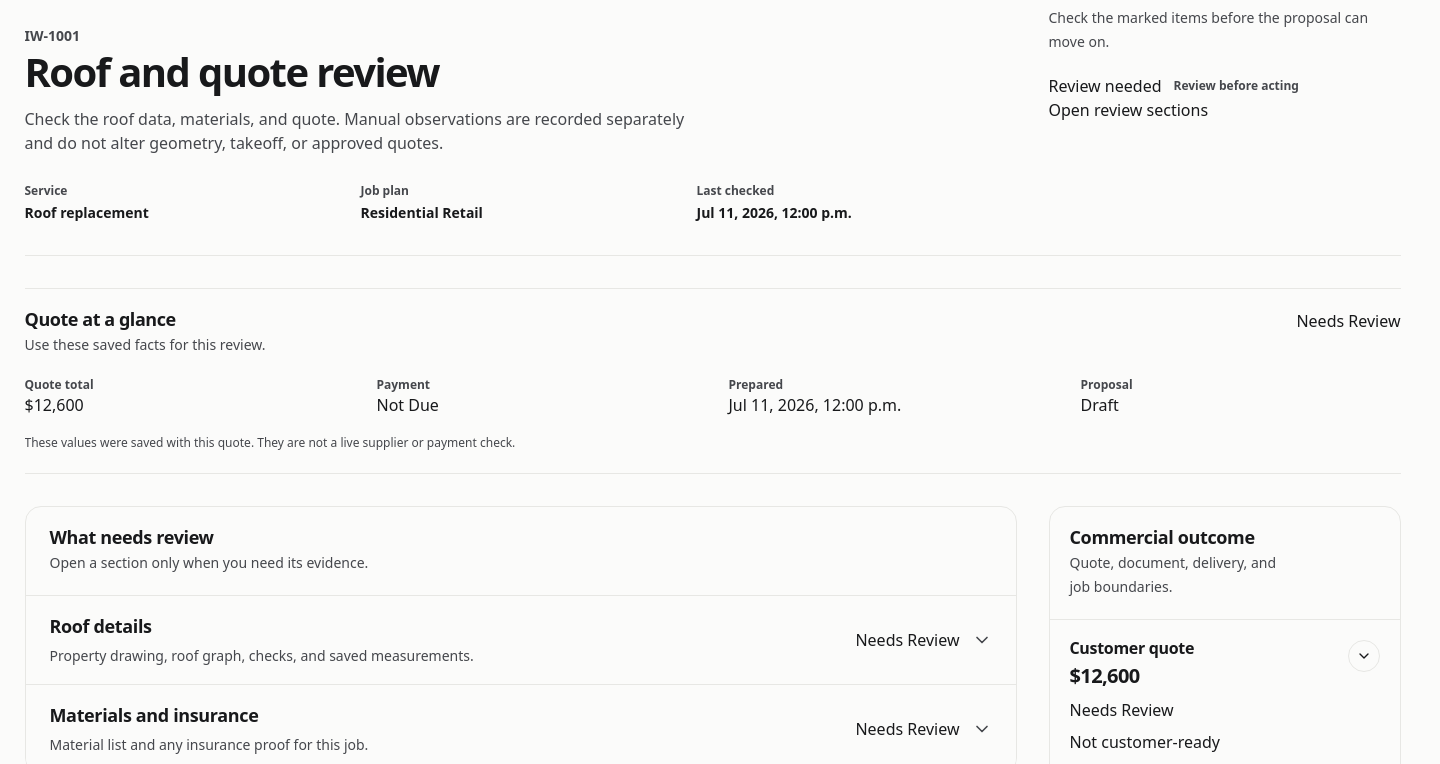
it: EstimatorWorkbenchPage › shows a source-read failure as unavailable instead of relabeling it as field verified
Check: the heading "Roof and quote review" is shown, box 24,44 -> 439,99
Click the text "Roof details".
click(101, 626)  # box 50,614 -> 152,638
(page scrolled)
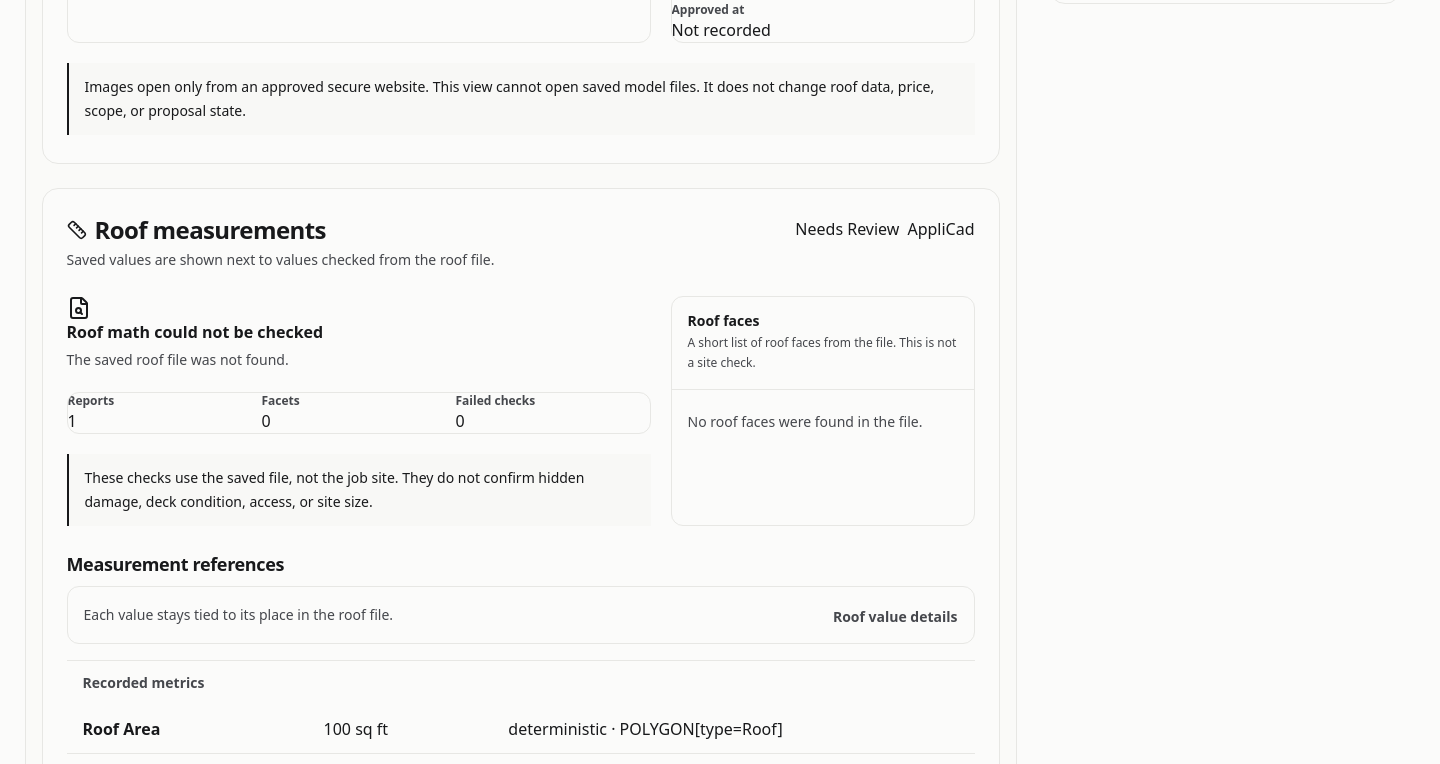
Check: the text "Roof math could not be checked" is shown, box 66,321 -> 323,343
Check: the text "The saved roof file was not found." is shown, box 66,350 -> 289,369
